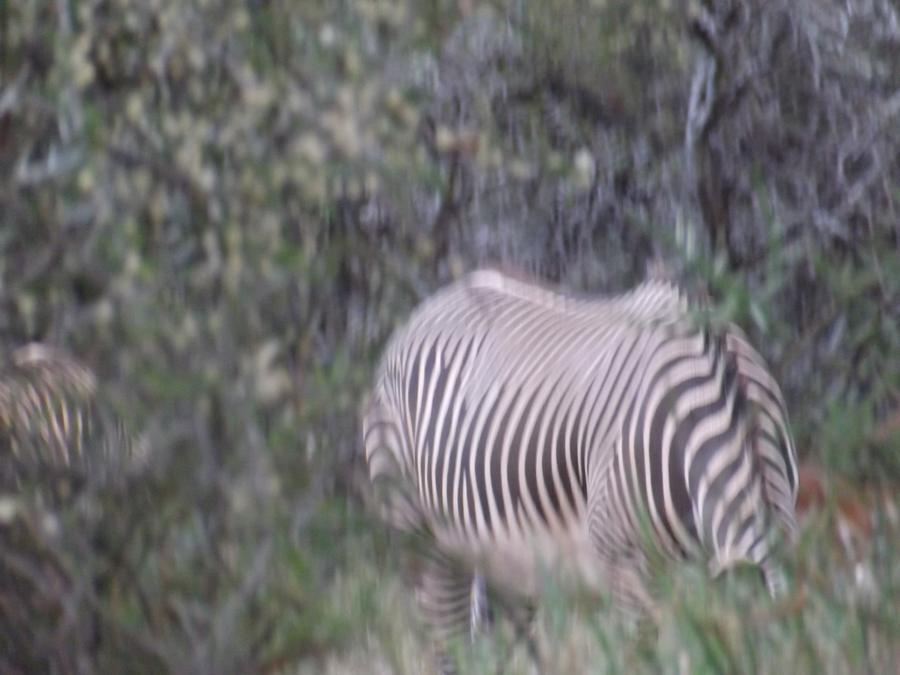zebra_grevys: (357, 247, 682, 594)
